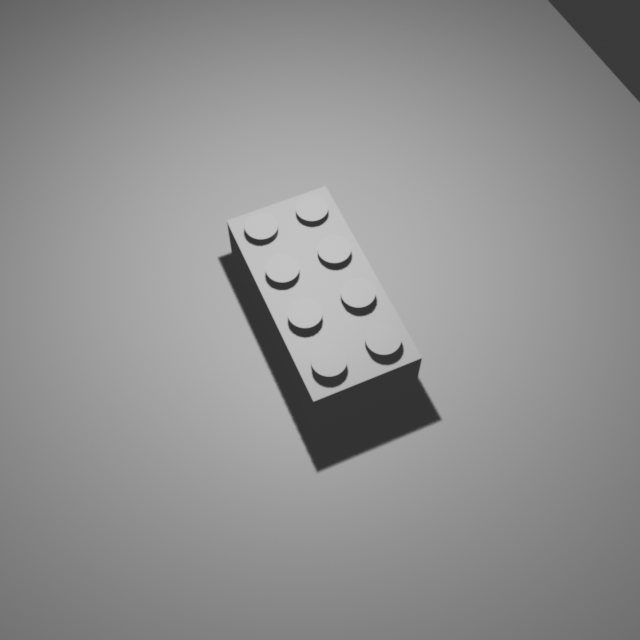lego_2x4: (226, 179, 423, 430)
